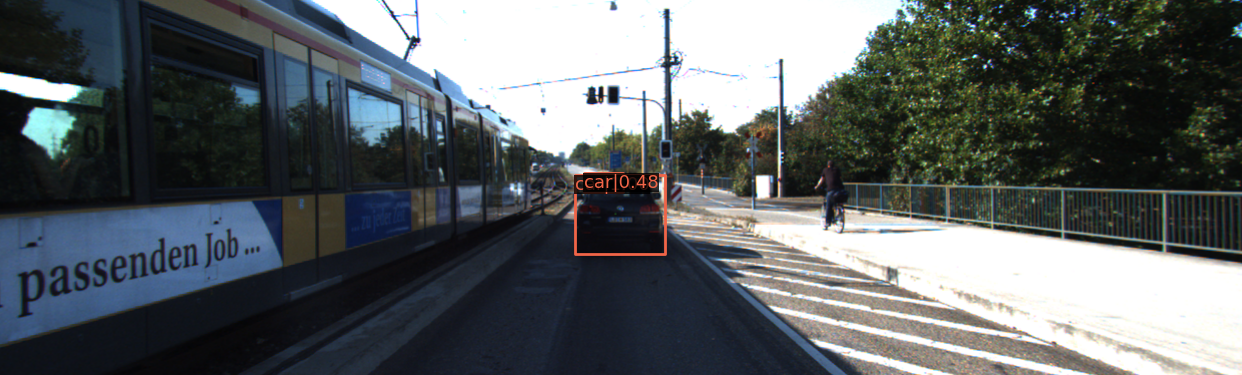car: (578, 178, 660, 257)
